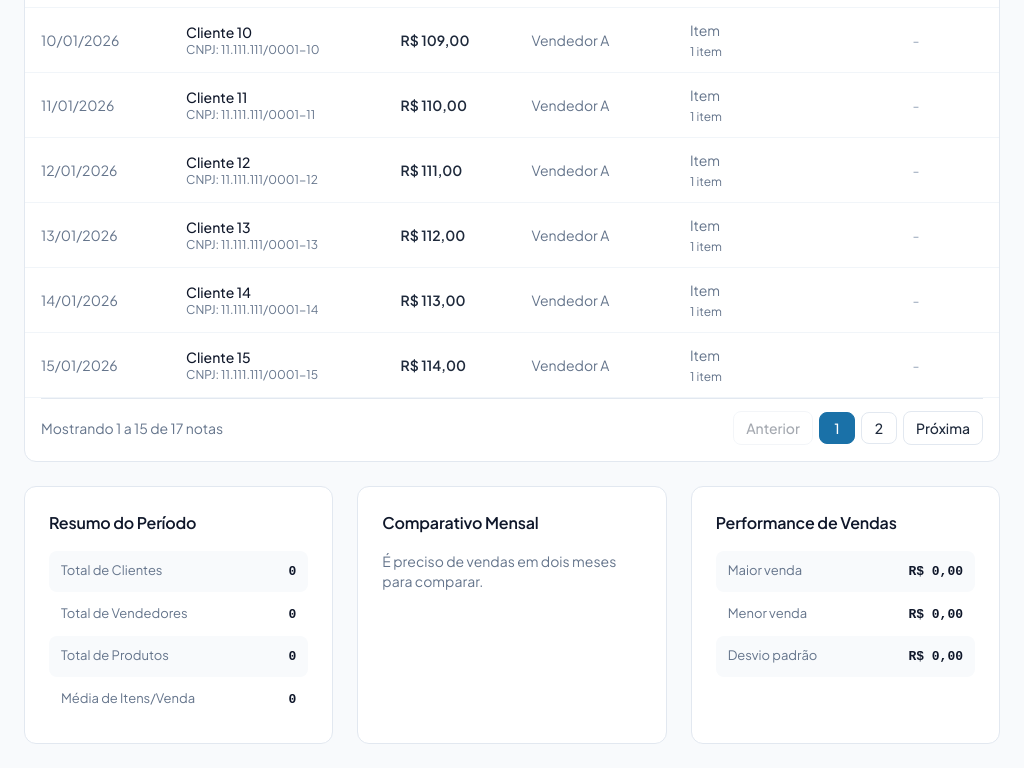
Scenario: paginacao em Vendas › Proximo leva a segunda pagina, que tem o resto
The width and height of the screenshot is (1024, 768).
(page scrolled)
Click the button "Próxima".
click(943, 428)  # box [903,411,983,445]
(page scrolled)
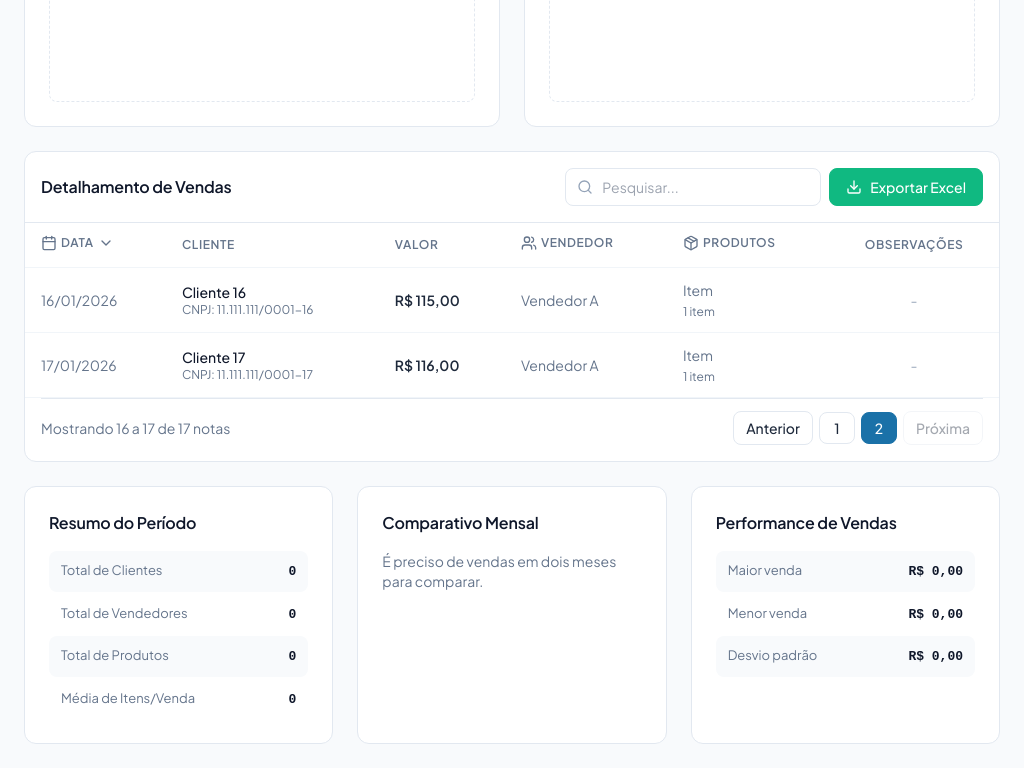
Expected: the text "Mostrando 16 a 17 de 17 notas" is shown, [41,418,230,438]
